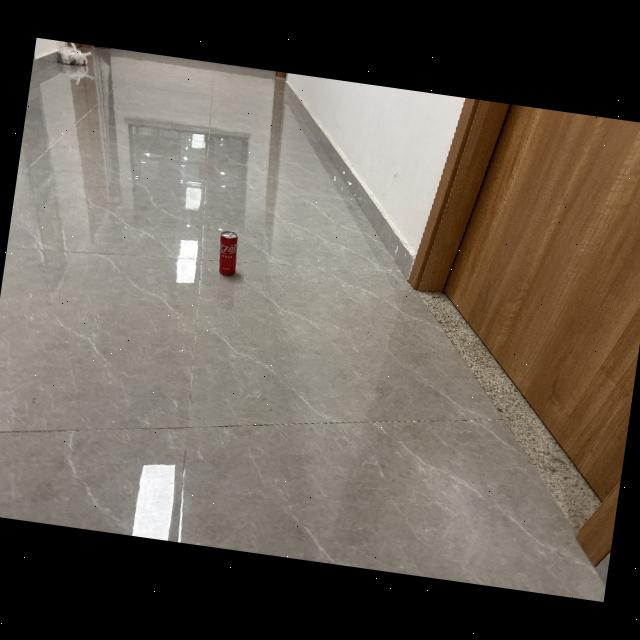Cola: (209, 223, 250, 284)
